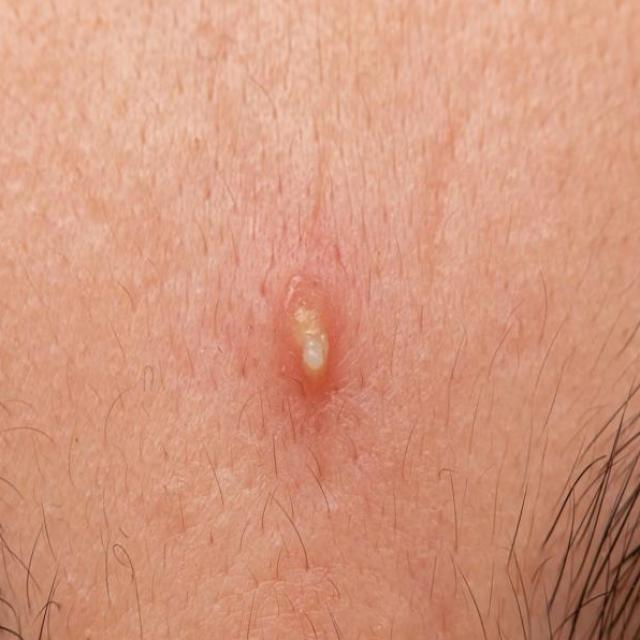pustule: (248, 198, 364, 431)
